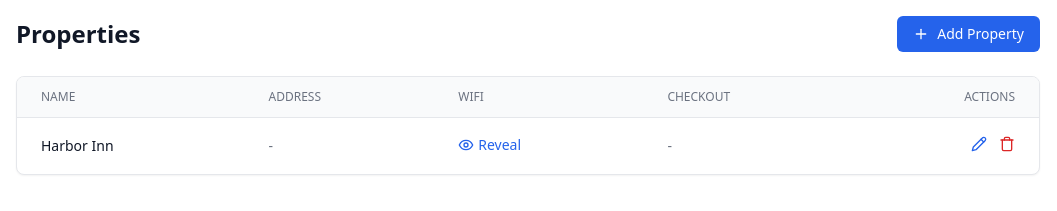
Test: PropertiesPage WiFi reveal › keeps the password hidden and shows the error when the reveal fails
Click the button "Reveal" at (490, 144), box left=458, top=134, right=521, bottom=154
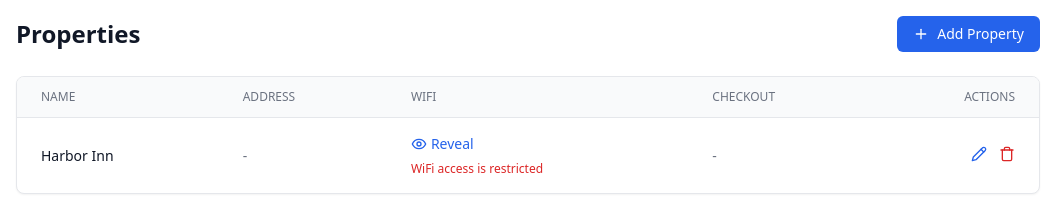
Expected: the button "Reveal" is shown, left=411, top=134, right=474, bottom=154
Result: the text "WiFi access is restricted" is shown at left=411, top=160, right=543, bottom=177
